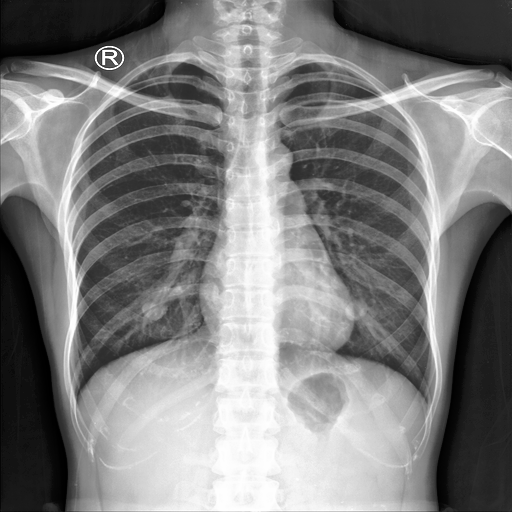Pulmonary fibrosis: (137, 299, 167, 321), (345, 299, 368, 321)
